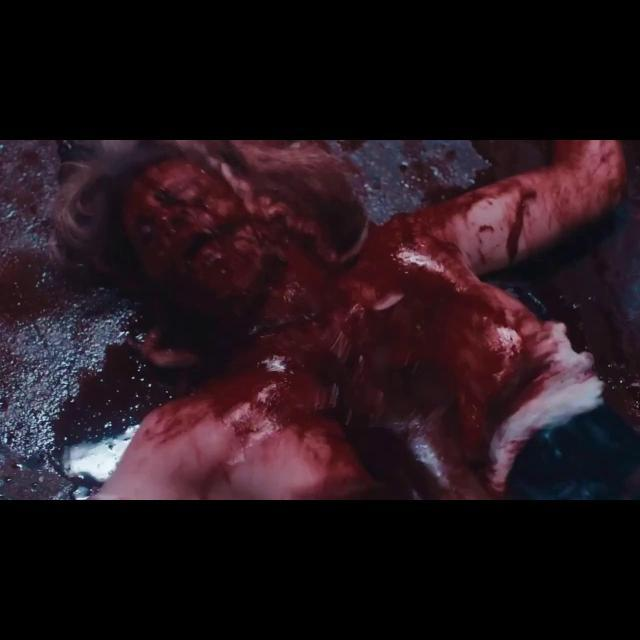blood: (0, 140, 640, 499)
